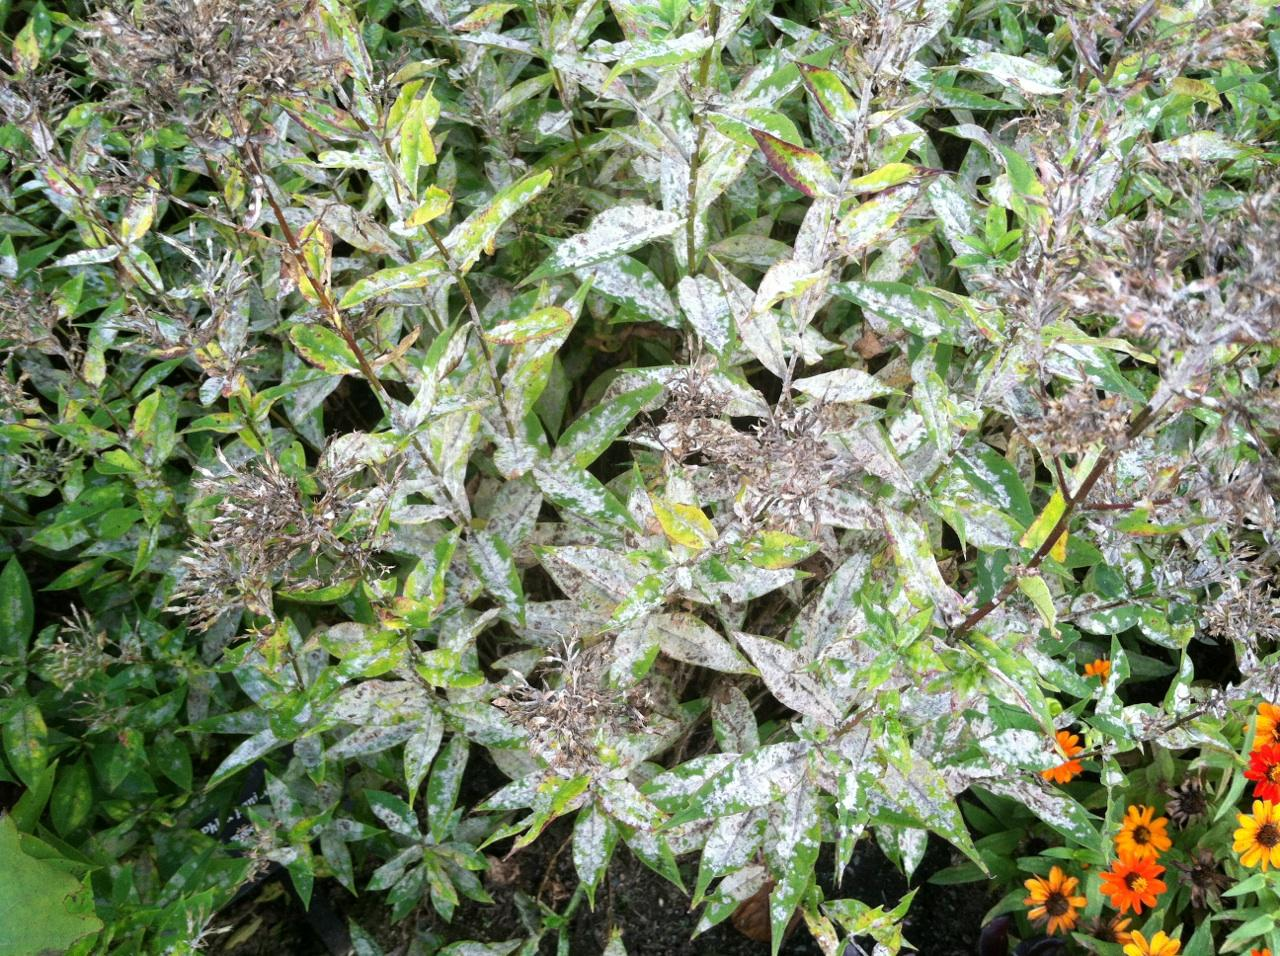powdery_mildew: (114, 82, 1219, 888)
